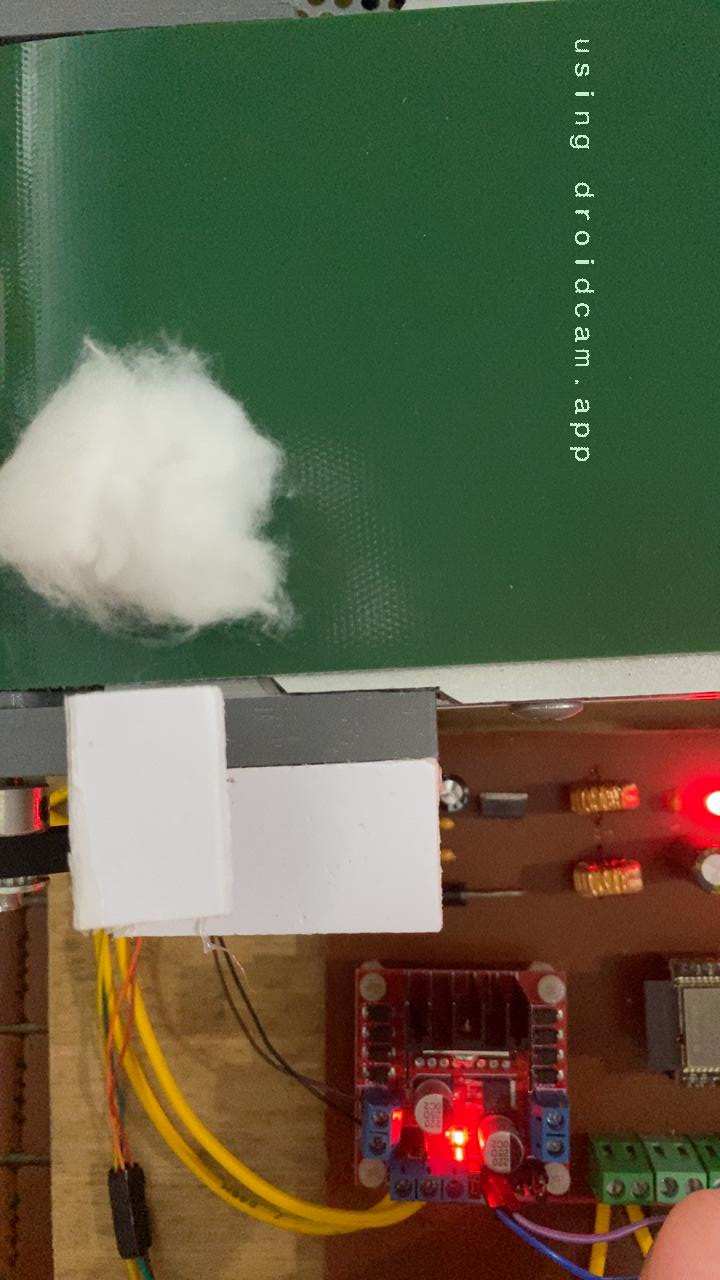cotton: (0, 330, 290, 638)
